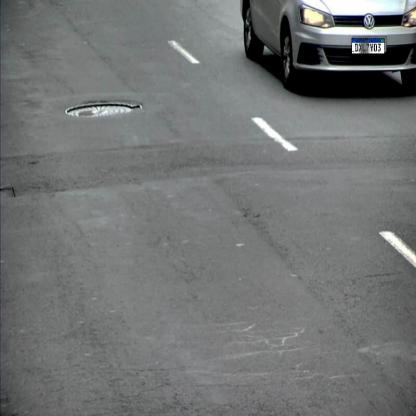PlacaM: (351, 38, 385, 54)
